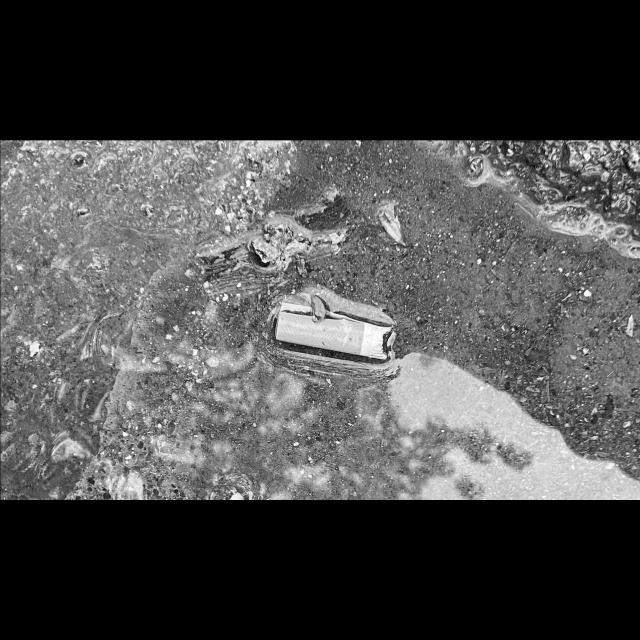cigarette: (274, 310, 395, 361)
